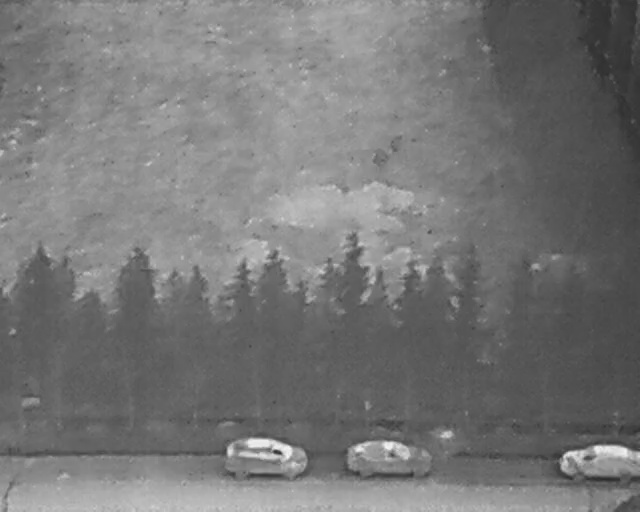Car: (226, 436, 308, 480), (347, 438, 433, 478), (559, 443, 639, 479)
